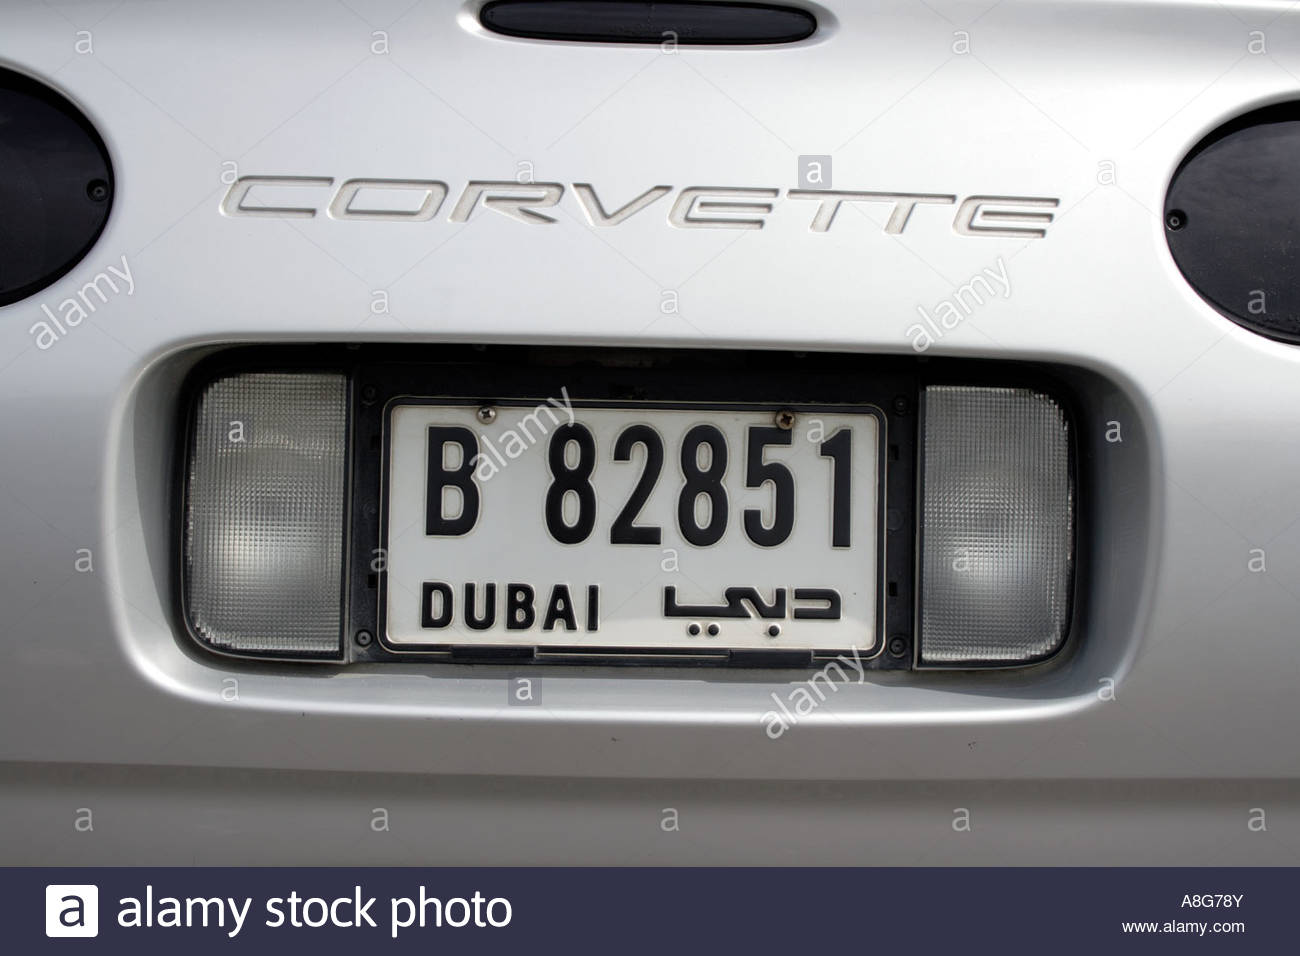license plate: (368, 386, 891, 671)
